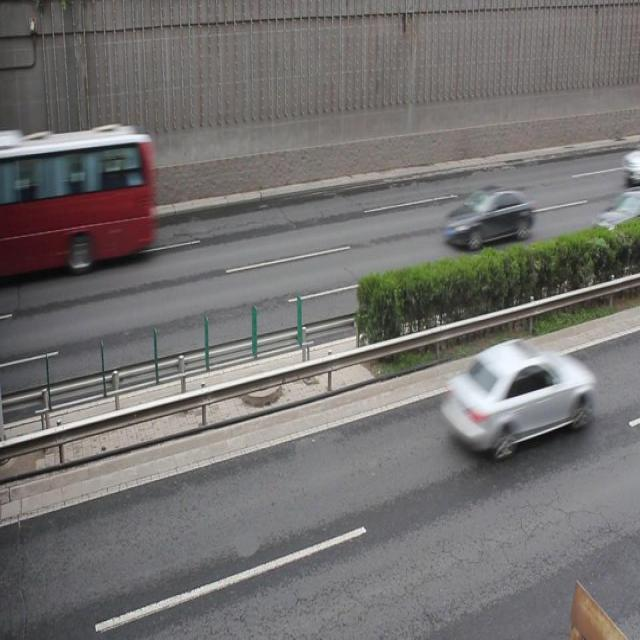car: (439, 340, 591, 458), (445, 186, 532, 250)
van: (1, 124, 152, 277)
